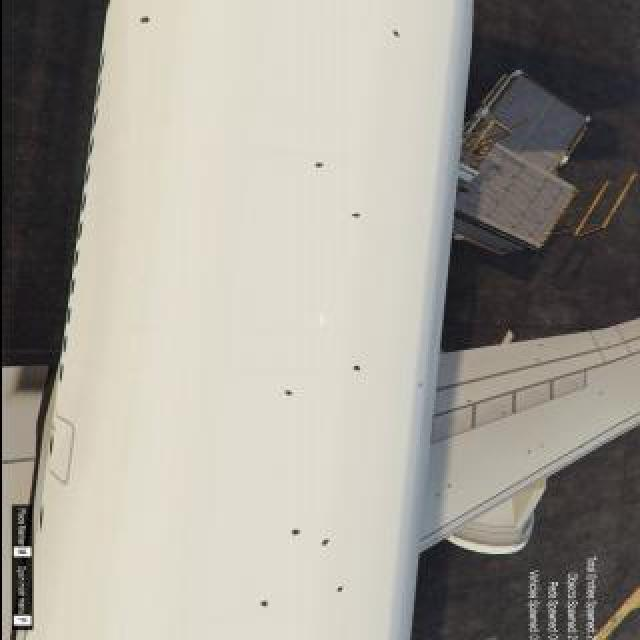crack: (136, 16, 156, 26), (280, 390, 296, 400), (318, 538, 334, 548), (347, 366, 363, 374), (287, 529, 303, 537), (257, 601, 273, 609), (391, 30, 403, 40), (313, 162, 327, 170), (334, 586, 348, 594), (348, 212, 360, 220), (417, 382, 425, 392), (432, 494, 442, 502), (444, 485, 454, 489), (465, 400, 473, 404), (536, 345, 544, 349), (597, 392, 605, 396), (524, 451, 532, 455), (604, 343, 610, 347), (539, 445, 545, 449), (501, 412, 505, 416), (535, 359, 539, 363)
